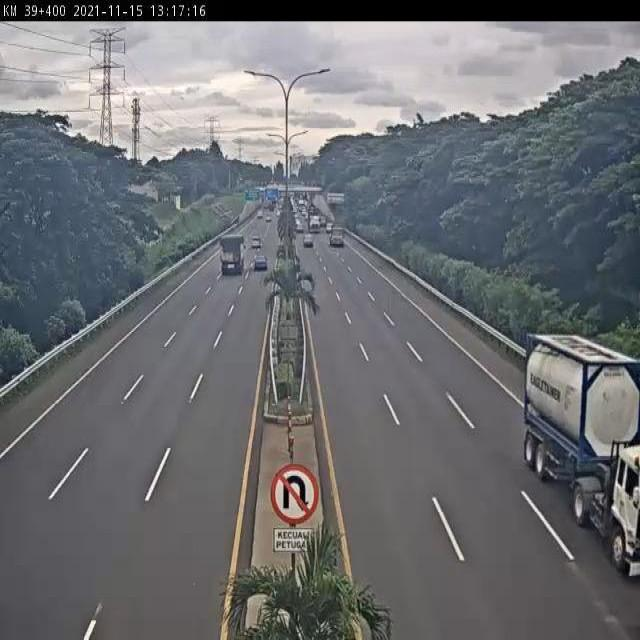car: (253, 251, 270, 273)
truck-l-: (221, 229, 247, 275)
truck-xl-: (526, 331, 640, 600)
